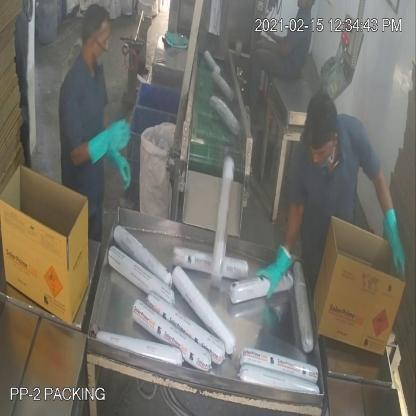glove: (78, 115, 134, 170), (376, 198, 410, 284), (258, 237, 292, 303)
no_glove: (258, 18, 292, 60)
